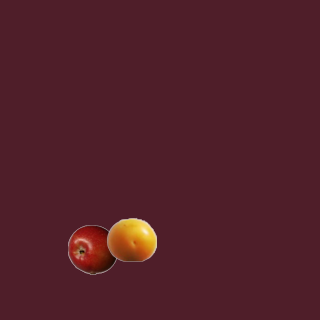Apple Braeburn: (67, 224, 117, 274)
Cherry Wax Yellow: (106, 214, 156, 264)
